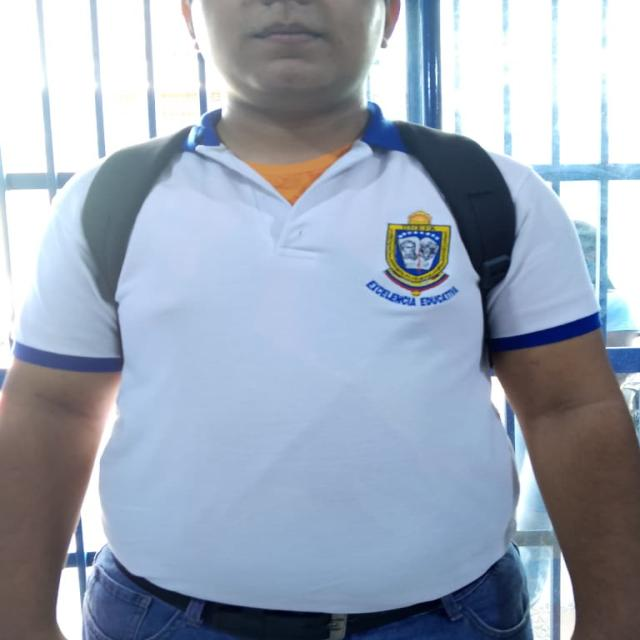uniforme_superior: (11, 100, 606, 611)
